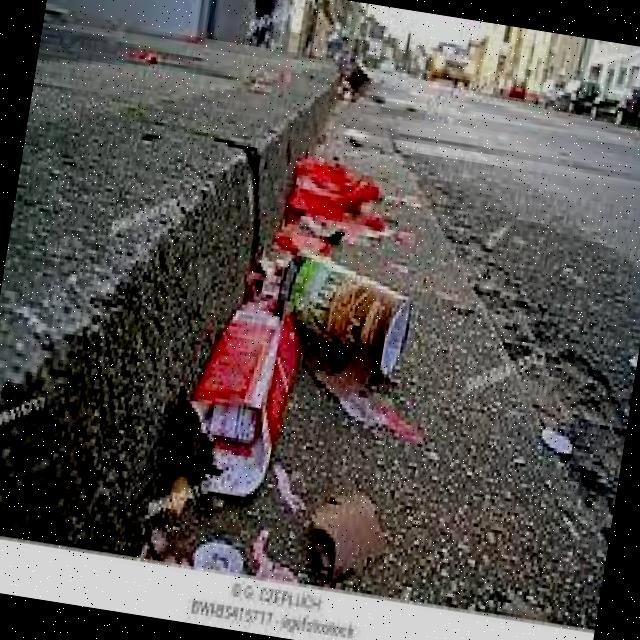curb: (1, 86, 259, 555), (160, 63, 338, 262)
